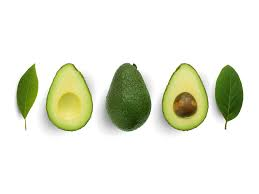avocado: (161, 62, 209, 131), (46, 62, 93, 132)
